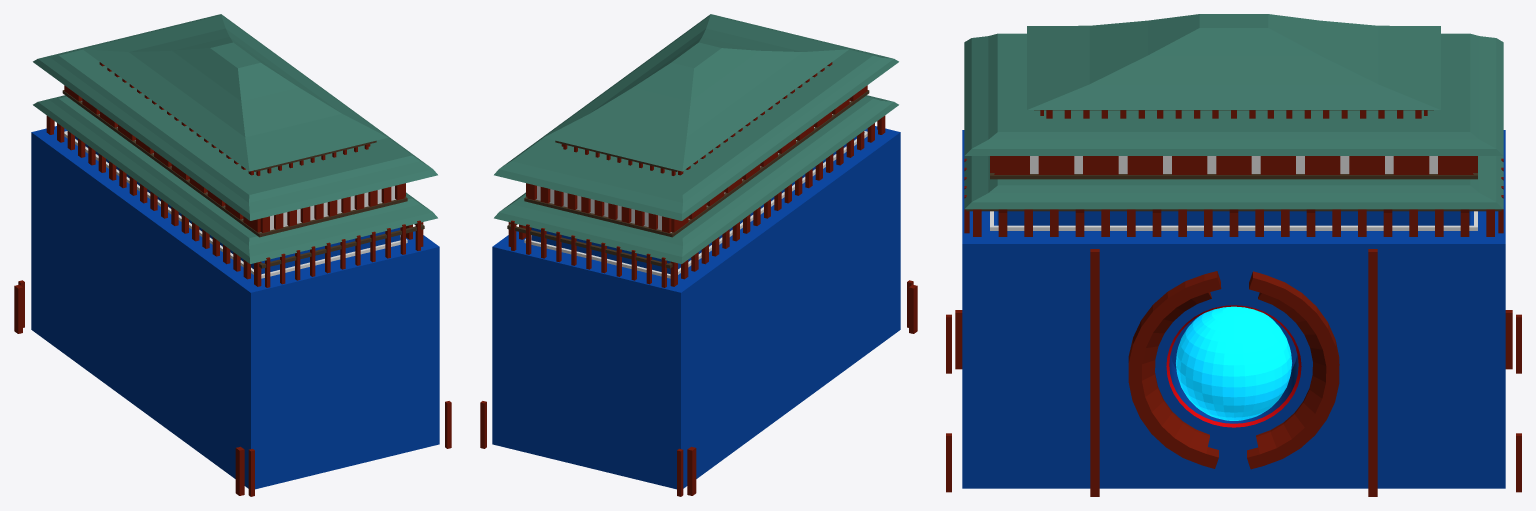
The model's file is Main tower.fbx.
3 views of the same model, side by side, from view 1: azimuth 30°, elevation 25°; view 2: azimuth 150°, elevation 25°; view 3: azimuth 270°, elevation 25° (orthographic). The views are drawn at different scales.
Visible parts, largest first — view 1: 立方体, 立方体.004, 立方体.003, 立方体.001, 立方体.009, 立方体.007, 立方体.014, 立方体.006, 立方体.010, 立方体.002, 立方体.011, 立方体.008; view 2: 立方体, 立方体.004, 立方体.003, 立方体.001, 立方体.009, 立方体.007, 立方体.014, 立方体.006, 立方体.010, 立方体.002, 立方体.011, 立方体.008; view 3: 立方体, 立方体.004, 立方体.003, 立方体.001, 柱体, 球体, 立方体.007, 立方体.014, 立方体.009, 立方体.006, 立方体.010, 立方体.002 (+2 smaller).
Part boxes in pixels (left/top/right/bottom): 立方体: left=31, top=126, right=439, bottom=489; 立方体.004: left=83, top=15, right=387, bottom=171; 立方体.003: left=33, top=14, right=437, bottom=220; 立方体.001: left=33, top=95, right=437, bottom=263; 立方体.009: left=46, top=115, right=423, bottom=287; 立方体.007: left=64, top=85, right=405, bottom=232; 立方体.014: left=14, top=280, right=451, bottom=496; 立方体.006: left=62, top=90, right=407, bottom=237; 立方体.010: left=64, top=131, right=407, bottom=278; 立方体.002: left=81, top=101, right=395, bottom=232; 立方体.011: left=259, top=224, right=424, bottom=268; 立方体.008: left=99, top=62, right=370, bottom=175; 立方体: left=492, top=126, right=900, bottom=489; 立方体.004: left=544, top=15, right=848, bottom=171; 立方体.003: left=494, top=14, right=898, bottom=220; 立方体.001: left=494, top=95, right=898, bottom=263; 立方体.009: left=508, top=115, right=885, bottom=287; 立方体.007: left=526, top=85, right=867, bottom=232; 立方体.014: left=480, top=280, right=917, bottom=496; 立方体.006: left=524, top=90, right=869, bottom=237; 立方体.010: left=524, top=131, right=867, bottom=278; 立方体.002: left=536, top=101, right=850, bottom=232; 立方体.011: left=507, top=224, right=672, bottom=268; 立方体.008: left=561, top=62, right=832, bottom=175; 立方体: left=962, top=130, right=1505, bottom=488; 立方体.004: left=1027, top=14, right=1440, bottom=109; 立方体.003: left=964, top=33, right=1503, bottom=155; 立方体.001: left=964, top=156, right=1503, bottom=209; 柱体: left=1128, top=271, right=1339, bottom=469; 球体: left=1176, top=306, right=1291, bottom=420; 立方体.007: left=990, top=156, right=1477, bottom=174; 立方体.014: left=946, top=249, right=1521, bottom=496; 立方体.009: left=964, top=158, right=1503, bottom=236; 立方体.006: left=990, top=173, right=1477, bottom=179; 立方体.010: left=990, top=211, right=1477, bottom=230; 立方体.002: left=1030, top=156, right=1437, bottom=173.
Size of the model in its own units: 252 by 336 by 426.
